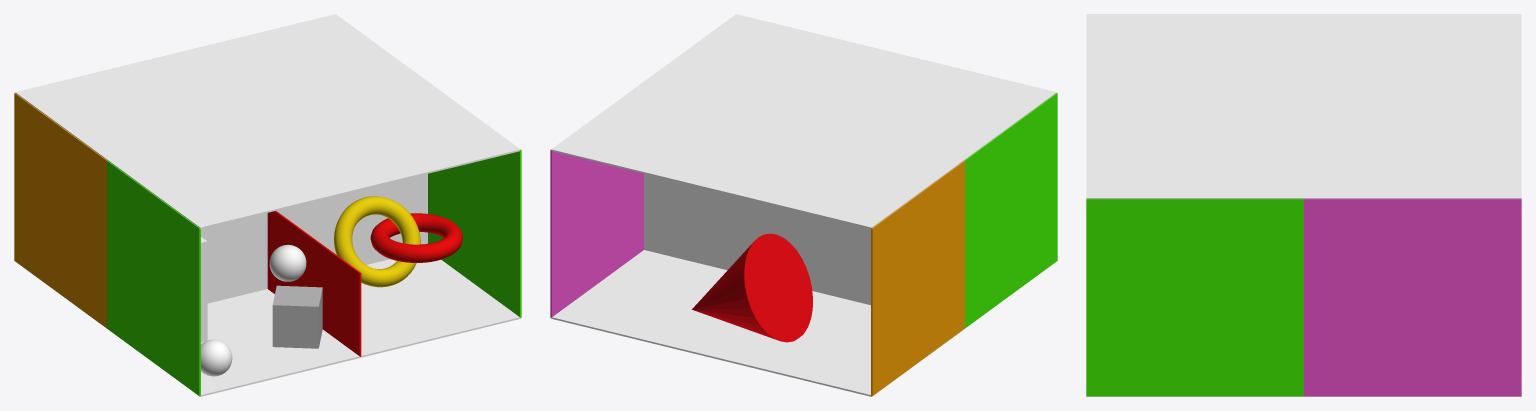
Rendered from cornell3.gltf.
The picture shows the model from 3 angles, left to right: view 1: azimuth 30°, elevation 25°; view 2: azimuth 150°, elevation 25°; view 3: azimuth 270°, elevation 25°; orthographic projection. The views are drawn at different scales.
Visible parts, largest first — view 1: cube_instance_3.001, cube_instance_3, cube_instance_2.001, cube_instance_5.002, cube_instance_5.001, cube_instance_5.003, cube_instance, cube_instance_6, Torus.002, cube_instance_14, Torus.001, sphere_instance (+2 smaller); view 2: cube_instance_3, cube_instance_3.001, cube_instance_2, cube_instance_5.001, cube_instance_5.002, cube_instance, cube_instance_5, Cone; view 3: cube_instance_5, cube_instance_5.003, cube_instance_3, cube_instance_3.001.
Part boxes in pixels (box(x1,y1,x2,y2)): cube_instance_3.001: box(107, 82, 520, 229); cube_instance_3: box(15, 14, 427, 160); cube_instance_2.001: box(199, 259, 520, 396); cube_instance_5.002: box(107, 160, 200, 396); cube_instance_5.001: box(14, 93, 107, 328); cube_instance_5.003: box(428, 150, 521, 317); cube_instance: box(201, 174, 427, 303); cube_instance_6: box(267, 211, 361, 356); Torus.002: box(334, 196, 420, 287); cube_instance_14: box(272, 285, 322, 348); Torus.001: box(370, 213, 462, 262); sphere_instance: box(269, 244, 306, 281); cube_instance_3: box(551, 82, 964, 229); cube_instance_3.001: box(644, 14, 1056, 160); cube_instance_2: box(551, 250, 872, 396); cube_instance_5.001: box(871, 160, 964, 396); cube_instance_5.002: box(964, 93, 1057, 328); cube_instance: box(644, 174, 870, 305); cube_instance_5: box(550, 150, 643, 317); Cone: box(692, 233, 812, 342); cube_instance_5: box(1304, 199, 1521, 396); cube_instance_5.003: box(1086, 199, 1303, 396); cube_instance_3: box(1304, 14, 1521, 198); cube_instance_3.001: box(1086, 14, 1303, 198).
Bounding box in the file's own units: 20.1 × 10.1 × 20.
